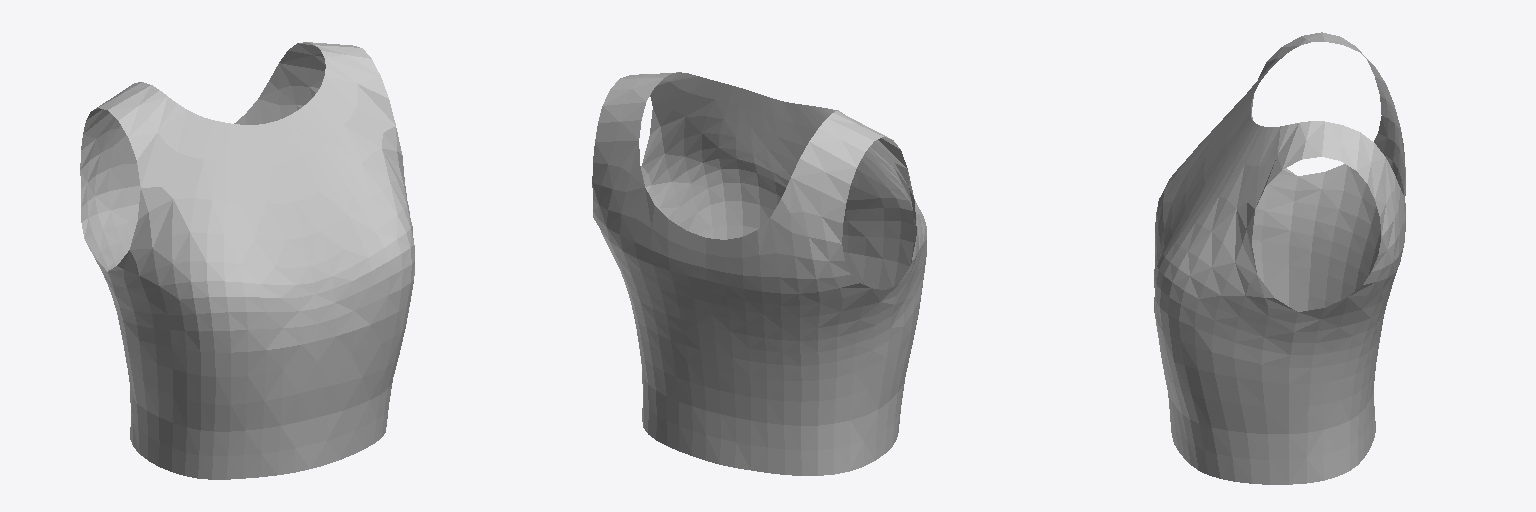
Rendered from 8_bodiceround.obj.
3 renders of one model, left to right at view 1: azimuth 30°, elevation 25°; view 2: azimuth 150°, elevation 25°; view 3: azimuth 270°, elevation 25°, orthographic.
Parts seen in each view (by area): view 1: bodicefrontleft, bodicefrontright, object_7, bodicebackleft, bodicebackright, bodiceback; view 2: bodiceback, bodicebackleft, bodicefrontleft, bodicebackright, object_7, bodicefrontright; view 3: object_7, bodicebackright, bodicebackleft, bodicefrontleft, bodicefrontright, bodiceback.
Part boxes in pixels (bbox=[...]): bodicefrontleft: bbox=[108, 85, 317, 479]; bodicefrontright: bbox=[271, 101, 411, 468]; object_7: bbox=[310, 45, 414, 436]; bodicebackleft: bbox=[80, 82, 150, 453]; bodicebackright: bbox=[258, 42, 359, 123]; bodiceback: bbox=[123, 100, 262, 235]; bodiceback: bbox=[635, 188, 784, 474]; bodicebackleft: bbox=[770, 118, 897, 475]; bodicefrontleft: bbox=[783, 101, 926, 460]; bodicebackright: bbox=[592, 78, 666, 445]; object_7: bbox=[620, 72, 733, 239]; bodicefrontright: bbox=[718, 86, 805, 239]; object_7: bbox=[1168, 121, 1324, 484]; bodicebackright: bbox=[1289, 122, 1401, 484]; bodicebackleft: bbox=[1289, 32, 1401, 311]; bodicefrontleft: bbox=[1154, 32, 1324, 306]; bodicefrontright: bbox=[1154, 112, 1259, 470]; bodiceback: bbox=[1364, 132, 1405, 457].
Bounding box in the file's own units: 12.98 × 15.31 × 10.03.